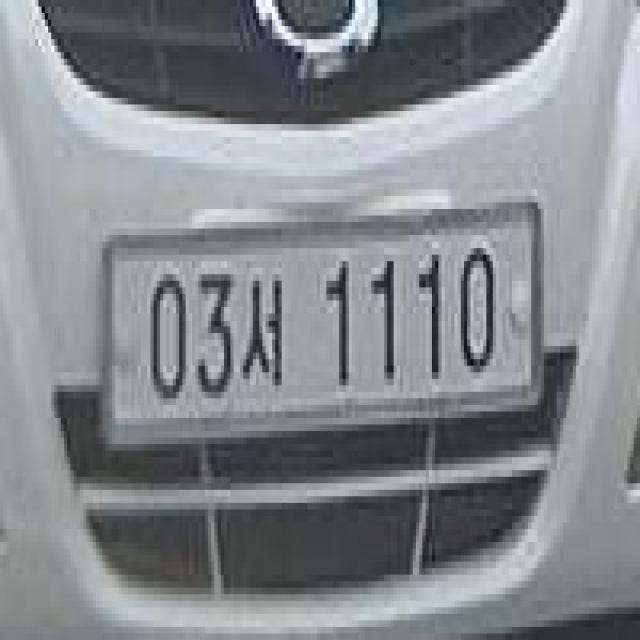illegal_plate: (100, 204, 544, 451)
